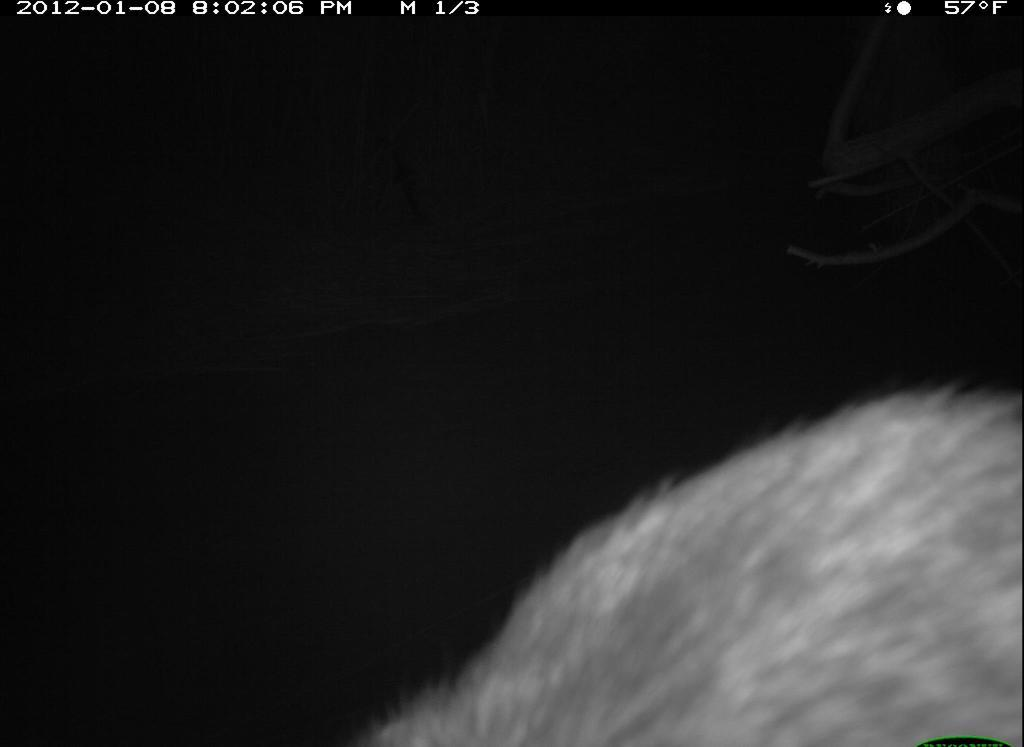raccoon: (299, 359, 1016, 747)
